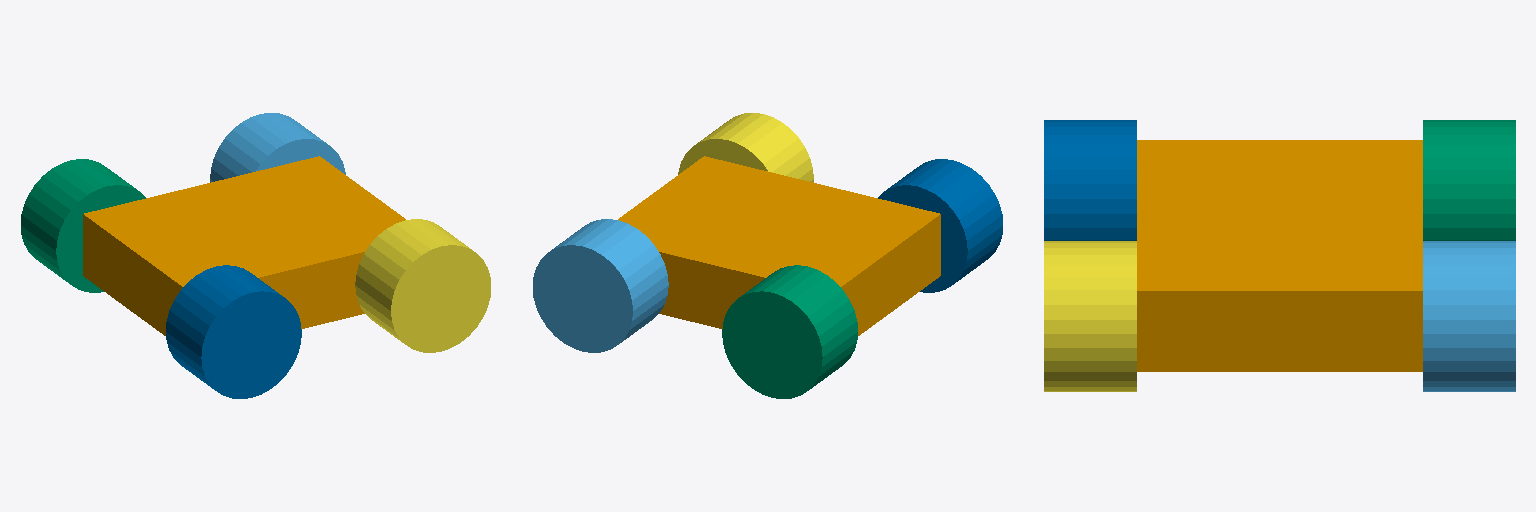
The robot description file, URDF, robot "GiANT":
<?xml version="1.0"?>
<robot name="GiANT">
    
    <!-- Robot Base Link -->
    <link name="base_link">
        <inertial>
            <origin xyz="0.0 0.0 0.03175" rpy="0.0 0.0 0.0"/>
            <mass value="1.0"/>
            <inertia ixx="1.0" ixy="0.0" ixz="0.0" iyy="1.0" iyz="0.0" izz="1.0"/>
        </inertial>
        <visual>
            <geometry>
                <box size="0.254 0.2032 0.0635"/>
            </geometry>
            <material name="Gazebo/Orange"/>
        </visual>
    </link>

    <!-- Materials -->
    <material name="black">
        <color rgba="0.0 0.0 0.0 1.0"/>
    </material>

    <!-- Left Front Wheel -->
    <link name="left_front_wheel">
        <visual>
            <origin rpy="1.57079 0 0" />
            <geometry>
                <cylinder radius="0.0539005" length="0.0663"/>
            </geometry>
            <material name="Gazebo/Black"/>
        </visual>
        <collision>
            <origin rpy="1.57079 0 0" />
            <geometry>
                <cylinder radius="0.0539005" length="0.0663"/>
            </geometry>
        </collision>
        <inertial>
            <origin xyz="0 0 0" rpy="0 0 0"/>
            <mass value="0.5"/>
            <inertia ixx="0.1" ixy="0" ixz="0" iyy="0.1" iyz="0" izz="0.1"/>
        </inertial>
    </link>

    <!-- Left Rear Wheel -->
    <link name="left_rear_wheel">
        <visual>
            <origin rpy="1.57079 0 0" />
            <geometry>
                <cylinder radius="0.0539005" length="0.0663"/>
            </geometry>
            <material name="Gazebo/Black"/>
        </visual>
        <collision>
            <origin rpy="1.57079 0 0" />
            <geometry>
                <cylinder radius="0.0539005" length="0.0663"/>
            </geometry>
        </collision>
        <inertial>
            <origin xyz="0 0 0" rpy="0 0 0"/>
            <mass value="0.5"/>
            <inertia ixx="0.1" ixy="0" ixz="0" iyy="0.1" iyz="0" izz="0.1"/>
        </inertial>
    </link>

    <!-- Right Front Wheel -->
    <link name="right_front_wheel">
        <visual>
            <origin rpy="1.57079 0 0" />
            <geometry>
                <cylinder radius="0.0539005" length="0.0663"/>
            </geometry>
            <material name="Gazebo/Black"/>
        </visual>
        <collision>
            <origin rpy="1.57079 0 0" />
            <geometry>
                <cylinder radius="0.0539005" length="0.0663"/>
            </geometry>
        </collision>
        <inertial>
            <origin xyz="0 0 0" rpy="0 0 0"/>
            <mass value="0.5"/>
            <inertia ixx="0.1" ixy="0" ixz="0" iyy="0.1" iyz="0" izz="0.1"/>
        </inertial>
    </link>

    <!-- Right Rear Wheel -->
    <link name="right_rear_wheel">
        <visual>
            <origin rpy="1.57079 0 0" />
            <geometry>
                <cylinder radius="0.0539005" length="0.0663"/>
            </geometry>
            <material name="Gazebo/Black"/>
        </visual>
        <collision>
            <origin rpy="1.57079 0 0" />
            <geometry>
                <cylinder radius="0.0539005" length="0.0663"/>
            </geometry>
        </collision>
        <inertial>
            <origin xyz="0 0 0" rpy="0 0 0"/>
            <mass value="0.5"/>
            <inertia ixx="0.1" ixy="0" ixz="0" iyy="0.1" iyz="0" izz="0.1"/>
        </inertial>
    </link>

    <!-- Joints connecting the wheels to the base_link -->
    <!-- Left Front Wheel Joint -->
    <joint name="left_front_wheel_joint" type="continuous">
        <parent link="base_link"/>
        <child link="left_front_wheel"/>
        <origin xyz="0.1016 0.13475 0.0" rpy="0.0 0.0 0.0"/>
        <axis xyz="0.0 1.0 0.0"/>
    </joint>

    <!-- Left Rear Wheel Joint -->
    <joint name="left_rear_wheel_joint" type="continuous">
        <parent link="base_link"/>
        <child link="left_rear_wheel"/>
        <origin xyz="-0.1016 0.13475 0.0" rpy="0.0 0.0 0.0"/>
        <axis xyz="0.0 1.0 0.0"/>
    </joint>

    <!-- Right Front Wheel Joint -->
    <joint name="right_front_wheel_joint" type="continuous">
        <parent link="base_link"/>
        <child link="right_front_wheel"/>
        <origin xyz="0.1016 -0.13475 0.0" rpy="0.0 0.0 0.0"/>
        <axis xyz="0.0 1.0 0.0"/>
    </joint>

    <!-- Right Rear Wheel Joint -->
    <joint name="right_rear_wheel_joint" type="continuous">
        <parent link="base_link"/>
        <child link="right_rear_wheel"/>
        <origin xyz="-0.1016 -0.13475 0.0" rpy="0.0 0.0 0.0"/>
        <axis xyz="0.0 1.0 0.0"/>
    </joint>
    
    <gazebo reference="base_link"><material>Gazebo/Orange</material></gazebo>
    <gazebo reference="left_front_wheel"><material>Gazebo/Black</material></gazebo>
    <gazebo reference="left_rear_wheel"><material>Gazebo/Black</material></gazebo>
    <gazebo reference="right_front_wheel"><material>Gazebo/Black</material></gazebo>
    <gazebo reference="right_rear_wheel"><material>Gazebo/Black</material></gazebo>
</robot>

--- Render facts (derived) ---
3 views of the same robot in one strip: view 1: azimuth 30°, elevation 25°; view 2: azimuth 150°, elevation 25°; view 3: azimuth 270°, elevation 25° (orthographic).
Robot: GiANT — 5 links, 4 joints (4 continuous); root link base_link; default pose: all joints at 0.
Visible links, largest first — view 1: base_link, right_front_wheel, right_rear_wheel, left_rear_wheel, left_front_wheel; view 2: base_link, left_front_wheel, left_rear_wheel, right_rear_wheel, right_front_wheel; view 3: base_link, left_front_wheel, right_front_wheel, left_rear_wheel, right_rear_wheel.
Link boxes in pixels (box(x1,y1,x2,y2)): base_link: box(83, 156, 405, 335); right_front_wheel: box(355, 219, 490, 352); right_rear_wheel: box(166, 265, 301, 398); left_rear_wheel: box(21, 159, 145, 292); left_front_wheel: box(210, 113, 345, 182); base_link: box(618, 156, 940, 335); left_front_wheel: box(533, 219, 668, 352); left_rear_wheel: box(722, 265, 857, 398); right_rear_wheel: box(878, 159, 1002, 292); right_front_wheel: box(678, 113, 813, 182); base_link: box(1137, 140, 1422, 371); left_front_wheel: box(1423, 241, 1515, 391); right_front_wheel: box(1044, 241, 1136, 391); left_rear_wheel: box(1423, 120, 1515, 240); right_rear_wheel: box(1044, 120, 1136, 240).
Bounding box of the posed robot: 0.311 × 0.3358 × 0.1078 m (x, y, z).
Geometry: primitives only (box / cylinder / sphere), no mesh files.
